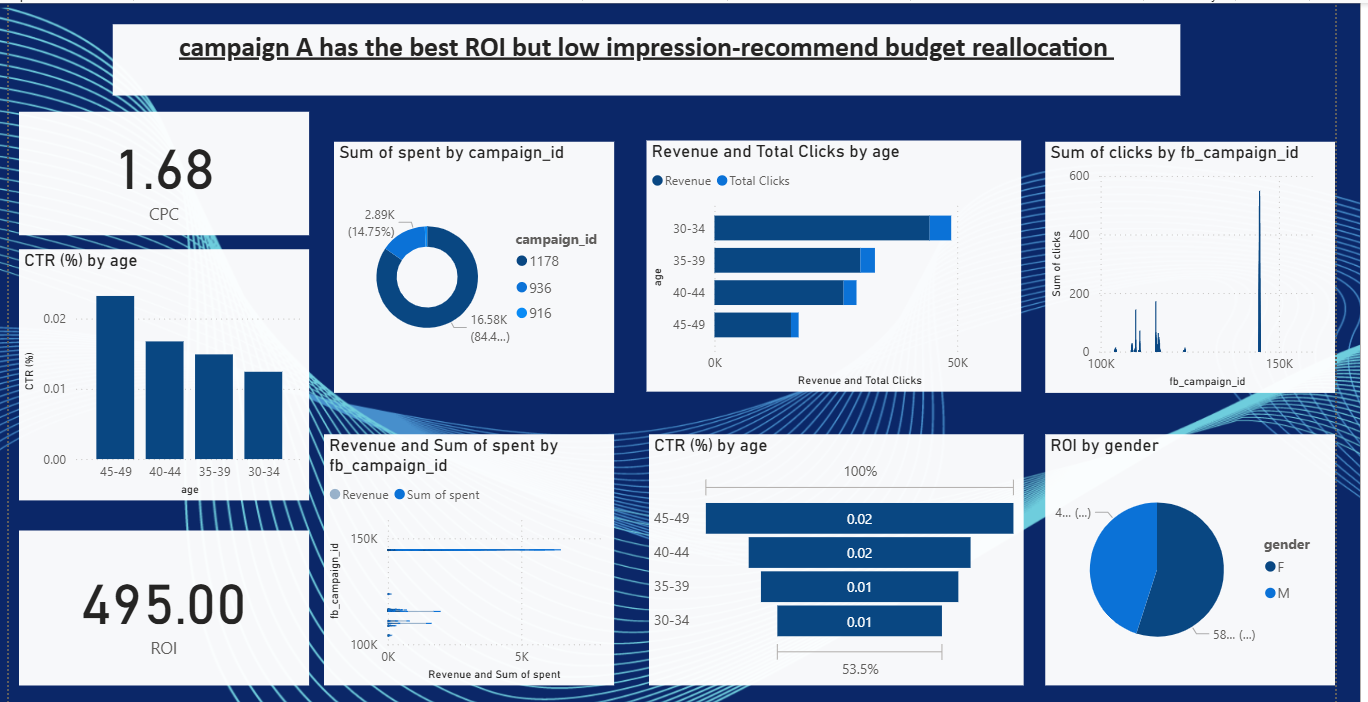

This screenshot's page, from the dashboard's own definition file:
{"tool":"powerbi","page":{"name":"Page 1","canvas":[1280,720],"ordinal":0},"visuals":[{"type":"card","fields":{"Values":["data.CPC"]},"box":[9.7,105,279.9,119.4],"z":0},{"type":"card","fields":{"Values":["data.ROI"]},"box":[9.7,509.1,279.9,149.6],"z":1000},{"type":"pieChart","fields":{"Category":["data.gender"],"Y":["data.ROI"]},"box":[1000.1,416.2,279.9,242.5],"z":2000},{"type":"columnChart","fields":{"Category":["data.fb_campaign_id"],"Y":["Sum(data.clicks)"]},"box":[1000.1,133.9,279.9,242.5],"z":3000},{"type":"barChart","fields":{"Category":["data.age"],"Y":["data.Revenue","data.Total Clicks"]},"box":[615.3,132.7,361.9,242.5],"z":4000},{"type":"clusteredColumnChart","fields":{"Category":["data.age"],"Y":["data.CTR (%)"]},"box":[9.7,237.7,279.9,242.5],"z":6000},{"type":"barChart","fields":{"Category":["data.fb_campaign_id"],"Y":["data.Revenue","Sum(data.spent)"]},"box":[304,416.2,279.9,242.5],"z":7000},{"type":"donutChart","fields":{"Y":["Sum(data.spent)"],"Category":["data.campaign_id"]},"box":[313.7,133.9,270.2,242.5],"z":8000},{"type":"funnel","fields":{"Y":["data.CTR (%)"],"Category":["data.age"]},"box":[617.7,416.2,361.9,242.5],"z":9000},{"type":"textbox","box":[100.1,20.5,1030.3,68.8],"z":10000}]}

Visuals, with their boxes in screenshot pixels (x1, y1, x2, y2):
card - data.CPC: pyautogui.locateOnScreen(17, 62, 306, 186)
card - data.ROI: pyautogui.locateOnScreen(17, 480, 306, 634)
pieChart - data.gender x data.ROI: pyautogui.locateOnScreen(1040, 384, 1330, 634)
columnChart - data.fb_campaign_id x Sum(data.clicks): pyautogui.locateOnScreen(1040, 92, 1330, 343)
barChart - data.age x data.Revenue: pyautogui.locateOnScreen(643, 91, 1017, 341)
clusteredColumnChart - data.age x data.CTR (%): pyautogui.locateOnScreen(17, 199, 306, 450)
barChart - data.fb_campaign_id x data.Revenue: pyautogui.locateOnScreen(321, 384, 610, 634)
donutChart - Sum(data.spent) x data.campaign_id: pyautogui.locateOnScreen(331, 92, 610, 343)
funnel - data.CTR (%) x data.age: pyautogui.locateOnScreen(645, 384, 1019, 634)
textbox: pyautogui.locateOnScreen(111, 0, 1175, 46)
